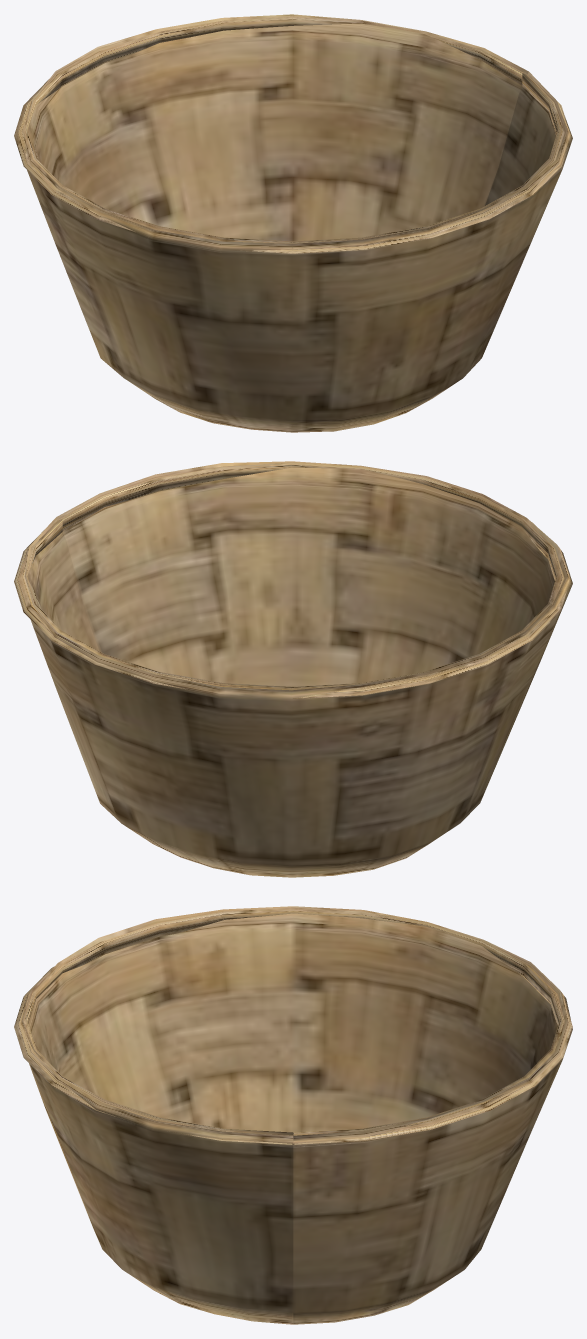
Rendered from prop_dala_lod1.glb.
The picture shows the model from 3 angles, top to bottom: view 1: azimuth 30°, elevation 25°; view 2: azimuth 150°, elevation 25°; view 3: azimuth 270°, elevation 25°; orthographic projection.
Parts seen in each view (by area): view 1: prop_dala; view 2: prop_dala; view 3: prop_dala.
Part boxes in pixels (box(x1,y1,x2,y2)): prop_dala: box(14, 14, 572, 432); prop_dala: box(14, 461, 572, 877); prop_dala: box(14, 906, 572, 1324).
Size of the model in its own units: 0.45 by 0.21 by 0.45.
1 material, 1 textured.
